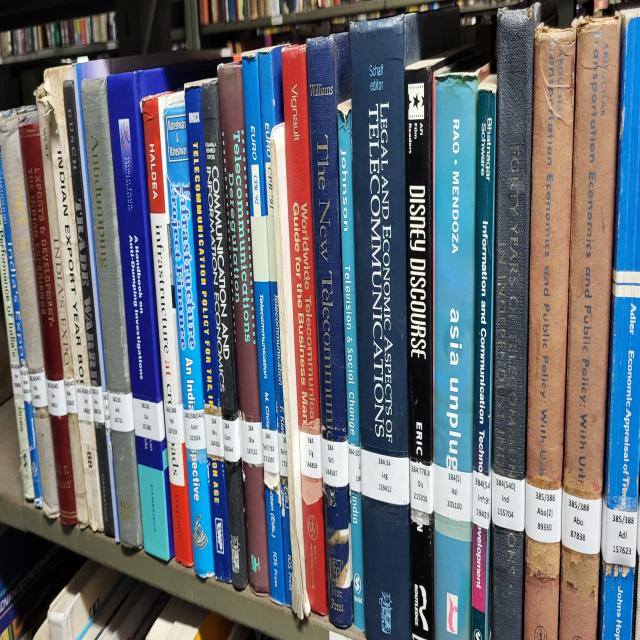Book: (350, 8, 459, 639), (559, 16, 621, 639), (432, 65, 489, 639), (108, 70, 174, 560), (524, 24, 576, 639), (491, 3, 541, 639), (39, 68, 104, 530), (81, 78, 142, 549), (306, 32, 354, 628), (218, 57, 270, 595), (282, 46, 328, 611), (599, 8, 640, 639), (141, 92, 194, 565), (201, 70, 248, 590), (0, 114, 59, 517), (165, 103, 215, 576), (242, 54, 285, 603), (405, 57, 445, 639), (64, 81, 114, 536), (20, 122, 76, 525), (185, 84, 230, 582), (39, 103, 89, 528), (270, 124, 311, 620), (258, 46, 292, 606), (0, 157, 42, 506), (338, 100, 365, 630), (471, 76, 496, 639), (0, 208, 34, 501)
Label: (360, 449, 410, 506), (561, 490, 602, 555), (601, 501, 638, 568), (525, 482, 562, 544), (434, 463, 472, 522), (491, 471, 525, 530), (132, 398, 165, 441), (321, 438, 349, 487), (410, 460, 434, 514), (299, 430, 322, 479), (240, 419, 264, 465), (472, 471, 491, 528), (108, 392, 134, 433), (205, 411, 224, 460), (184, 409, 206, 449), (46, 379, 68, 417), (222, 419, 241, 463), (165, 403, 185, 444), (262, 427, 279, 473), (29, 371, 48, 409), (75, 384, 94, 422), (348, 444, 361, 492), (91, 384, 105, 425), (64, 379, 78, 414), (279, 433, 288, 476), (11, 363, 22, 395)
